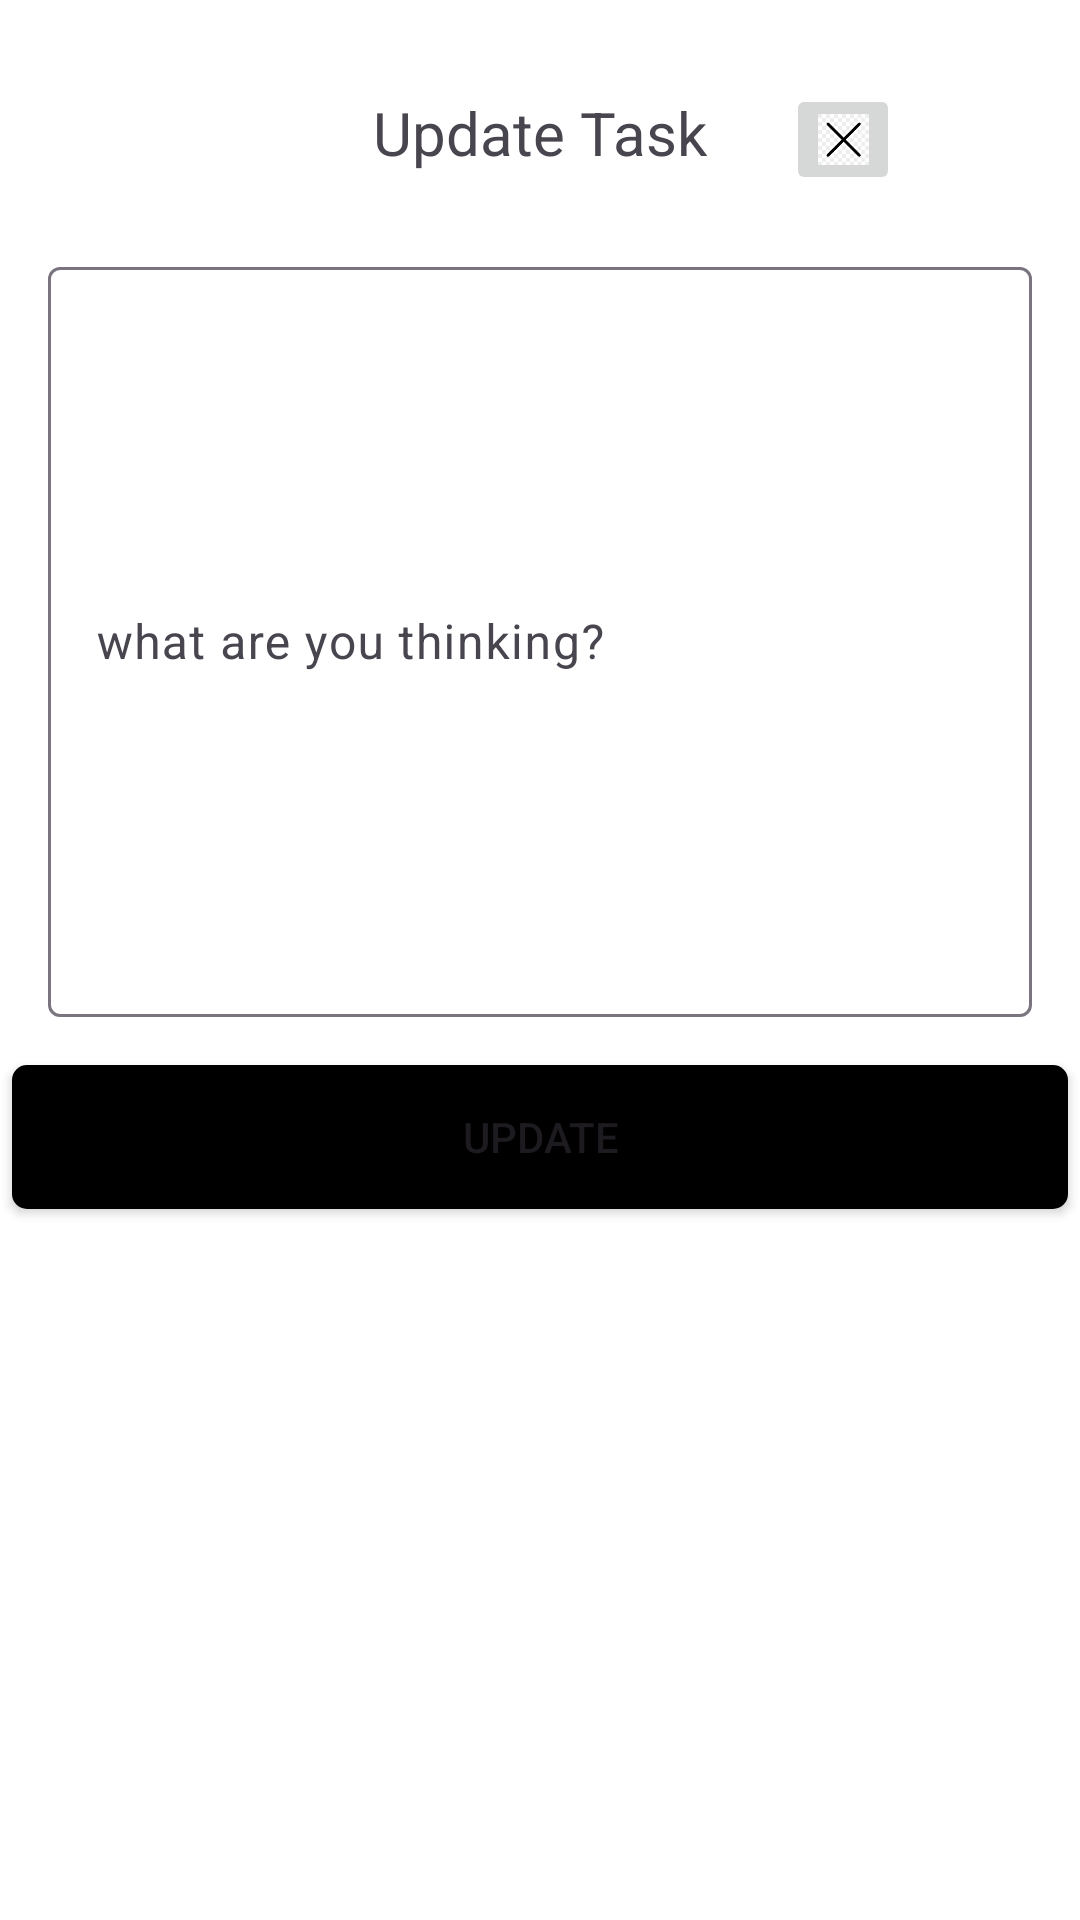

Icons on this 1080w x 1920h Android screen, each with the point to tap as [x,y]:
cancel: [843,139]
